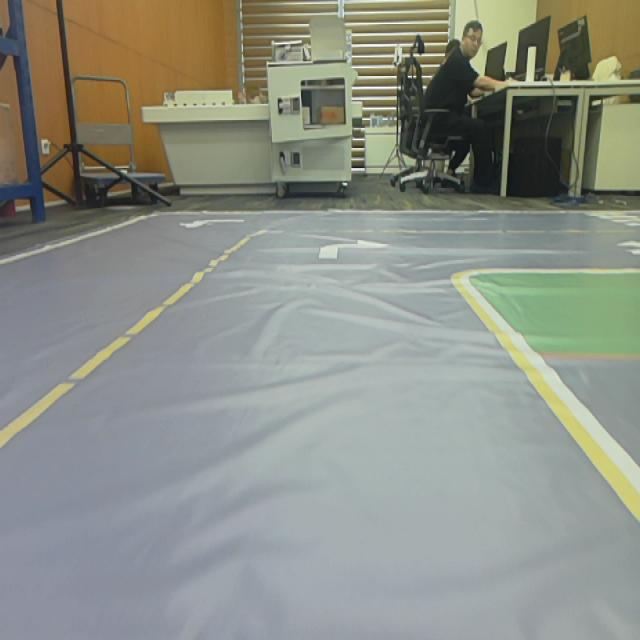left_lane: (0, 234, 252, 448)
right_lane: (451, 281, 640, 525)
